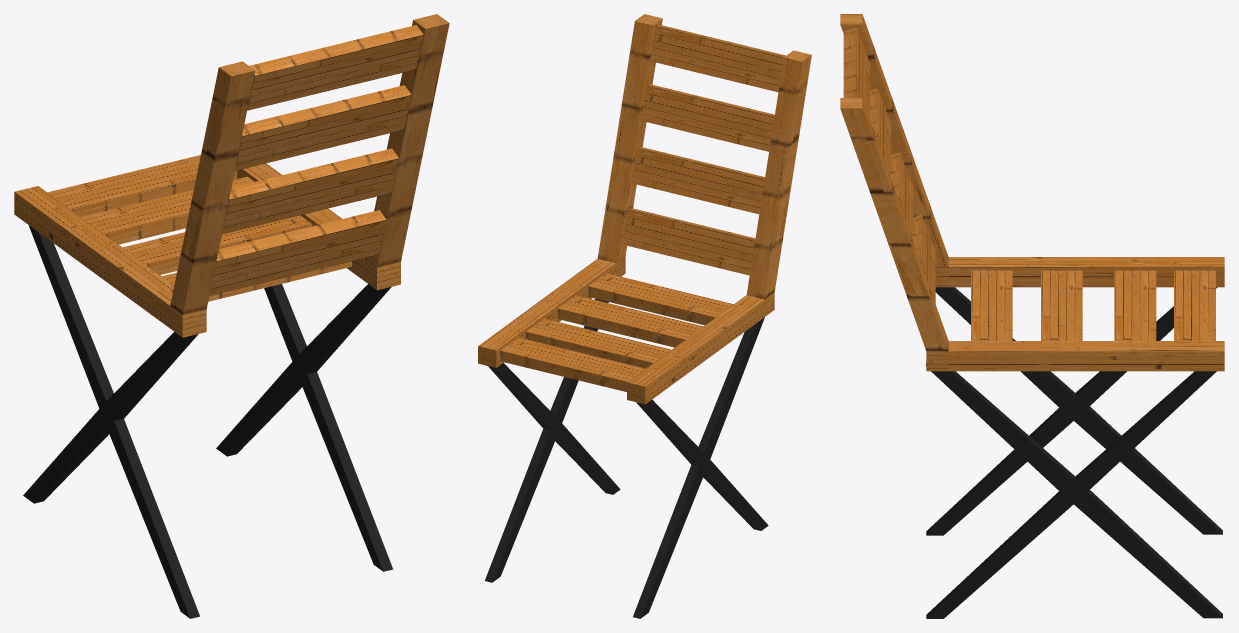
File: WoodenChair.dae
The picture shows the model from 3 angles, left to right: view 1: azimuth 30°, elevation 25°; view 2: azimuth 150°, elevation 25°; view 3: azimuth 270°, elevation 25°; orthographic projection. The views are drawn at different scales.
Visible parts, largest first — view 1: Chair, Legs; view 2: Chair, Legs; view 3: Chair, Legs.
Boxes of the visible parts, x1,y1,x2,y2 form: Chair: [14, 14, 449, 337]; Legs: [23, 225, 393, 618]; Chair: [478, 14, 811, 404]; Legs: [485, 298, 768, 618]; Chair: [840, 14, 1224, 371]; Legs: [926, 287, 1222, 618].
Bounding box in the file's own units: 0.3318 × 0.5715 × 0.8426.
Materials: 2 (1 with a texture image).
